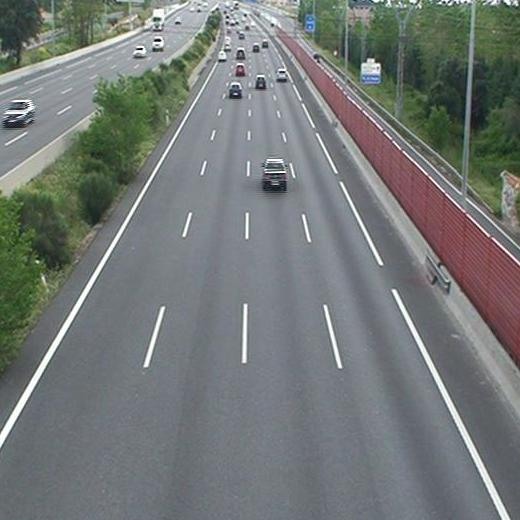car: (262, 159, 287, 186), (229, 83, 242, 96), (255, 76, 266, 88), (277, 69, 288, 80), (235, 64, 245, 74), (217, 51, 226, 59), (237, 49, 245, 57)
